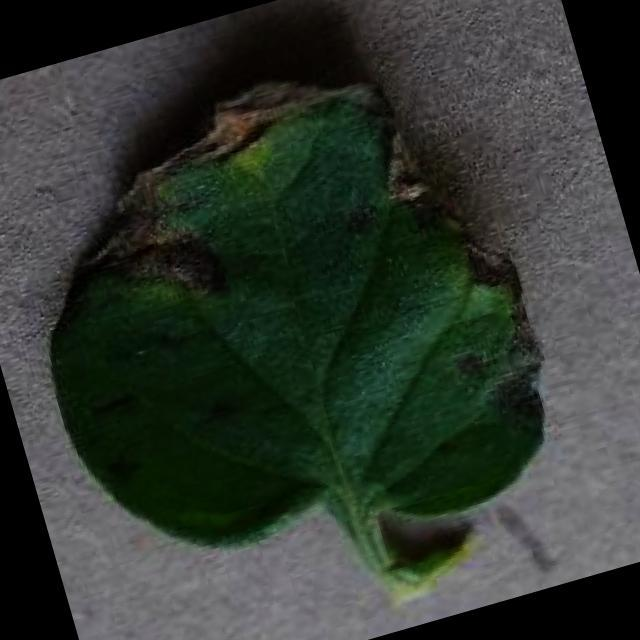Tomato Early blight leaf: (0, 29, 576, 607)
